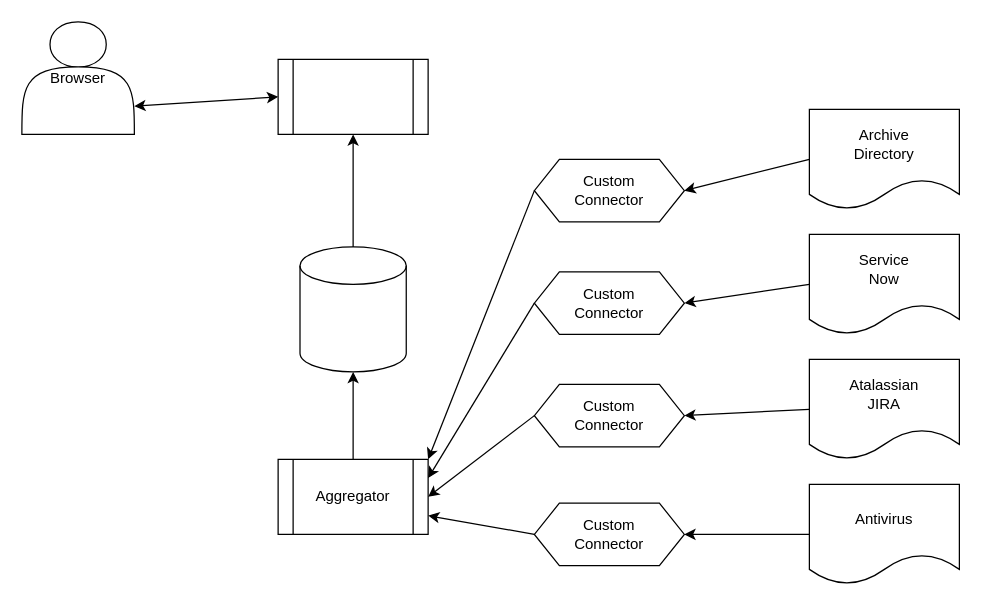
Some shapes in this 981 by 606 pixel diagram are drawn without their labels. The box of each missing label's shape, as (x1, y1, x2, y2) in pixels:
Métriques historisées: (299, 246, 406, 372)
Web Server: (277, 58, 428, 134)
